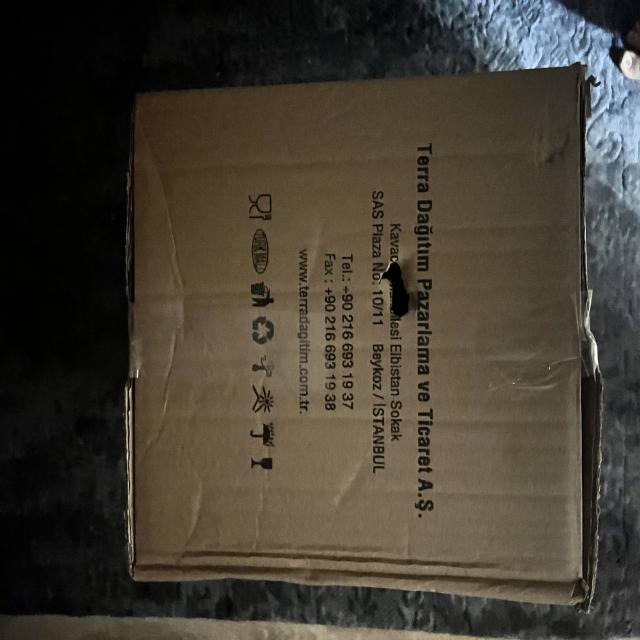damaged: (118, 74, 625, 627), (376, 237, 424, 333)
